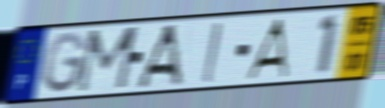1: (315, 13, 340, 77)
A: (134, 22, 184, 89), (242, 16, 290, 81)
G: (41, 30, 90, 96)
I: (200, 20, 224, 85)
M: (73, 24, 144, 96)
